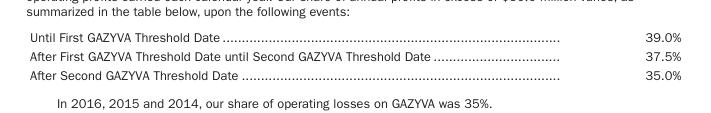table: (29, 28, 680, 82)
table column: (29, 28, 537, 82), (537, 28, 680, 82)
table row: (29, 45, 680, 65), (29, 28, 680, 45), (29, 65, 680, 82)
